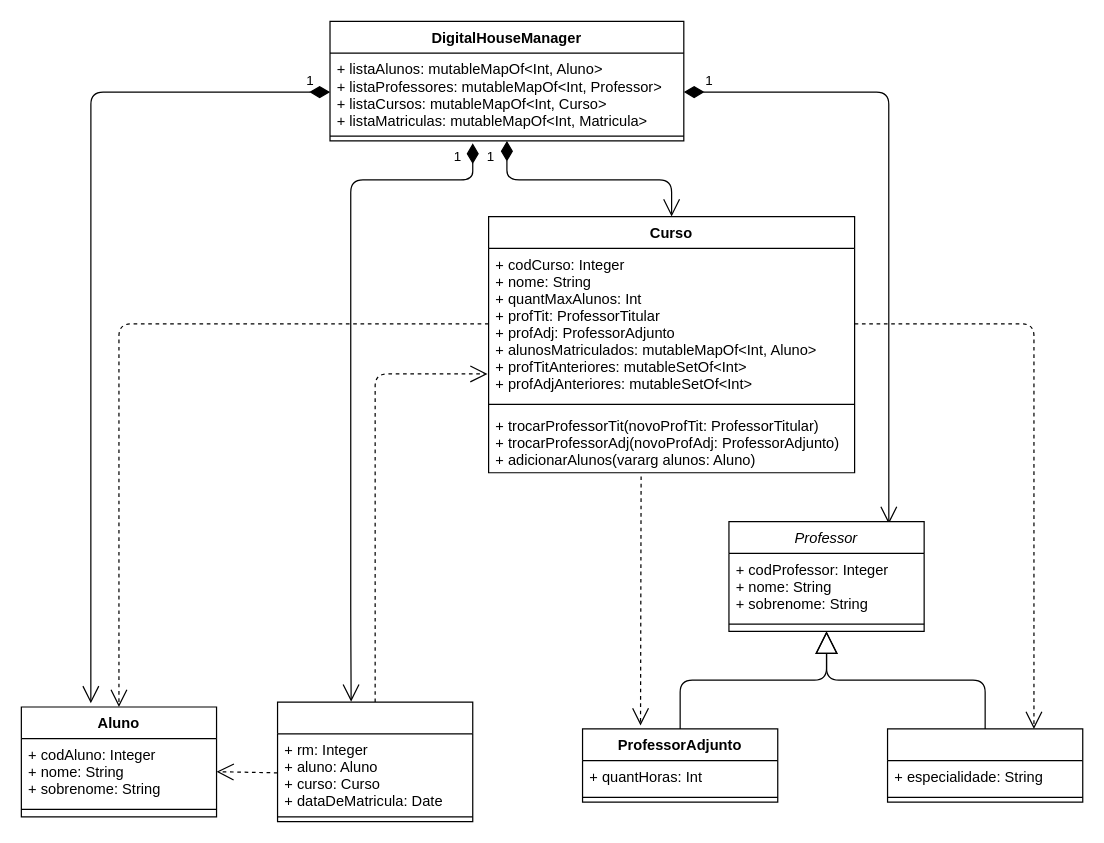
This 1104x843 diagram has some shape labels left out. Here are the shapes that lost their labels. From the top down, the box of each, then its label:
(276, 701, 473, 822): Matrícula
(886, 728, 1083, 802): ProfessorTitular
